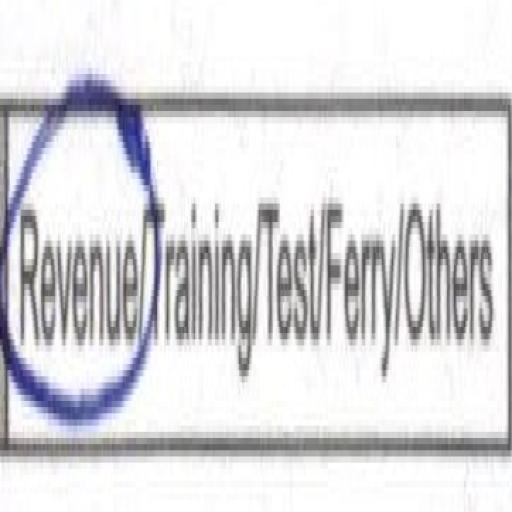check: (0, 30, 150, 512)
